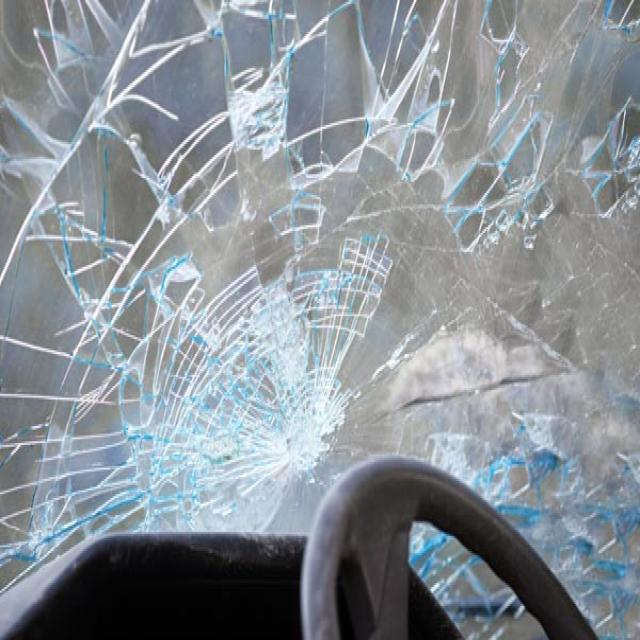crack: (0, 0, 640, 589)
